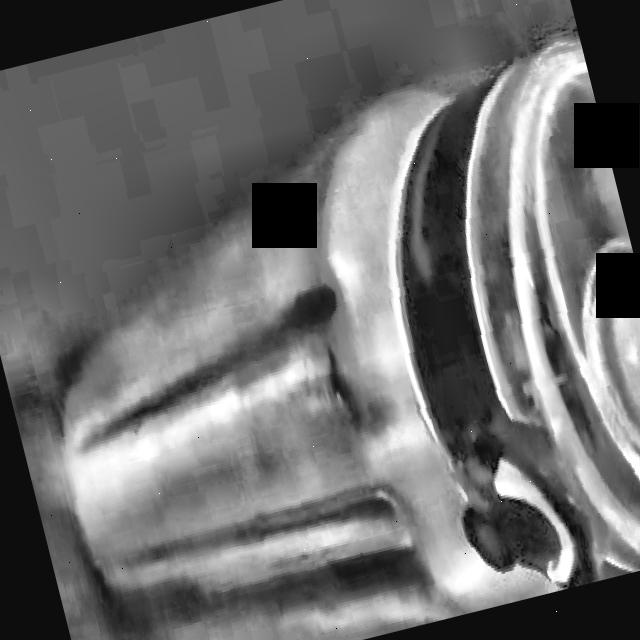bottle: (54, 31, 640, 640)
